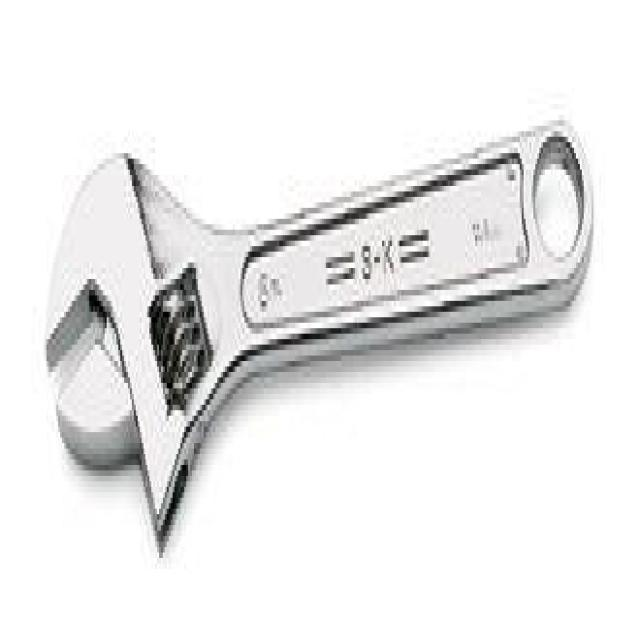wrench: (40, 105, 598, 580)
